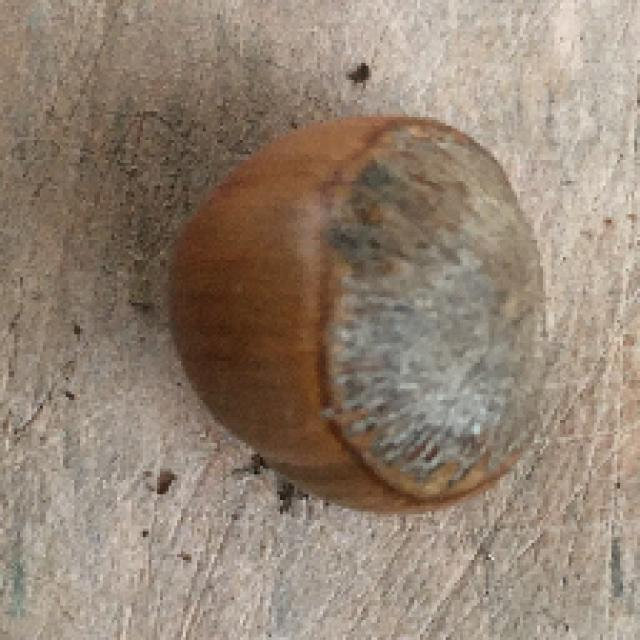damagedHazelnut: (165, 107, 549, 525)
